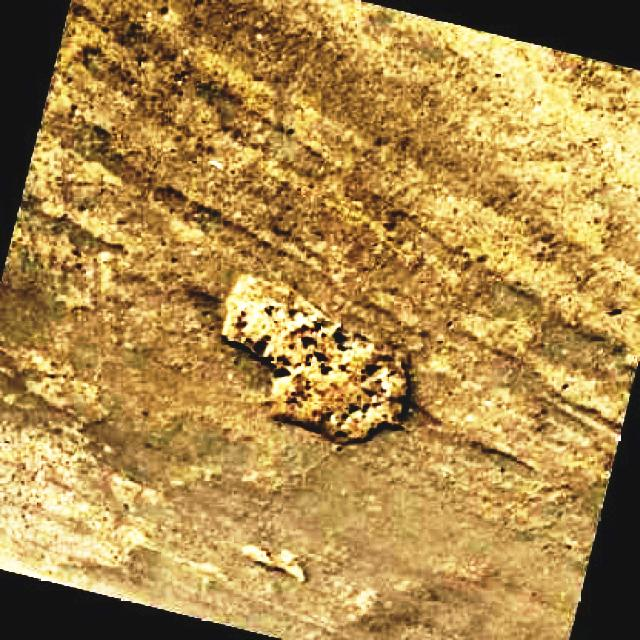pothole: (223, 271, 409, 443)
